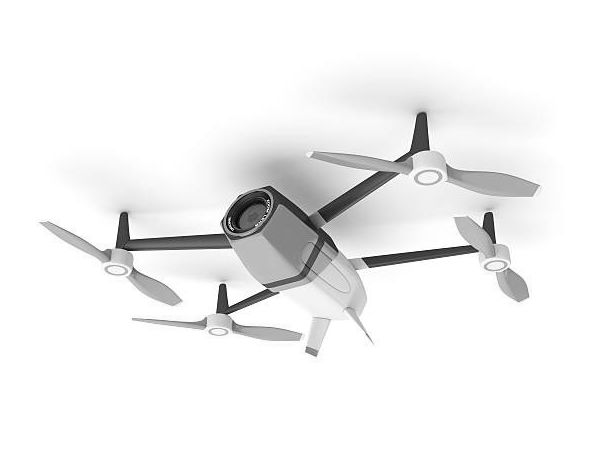Drone: (38, 107, 540, 361)
